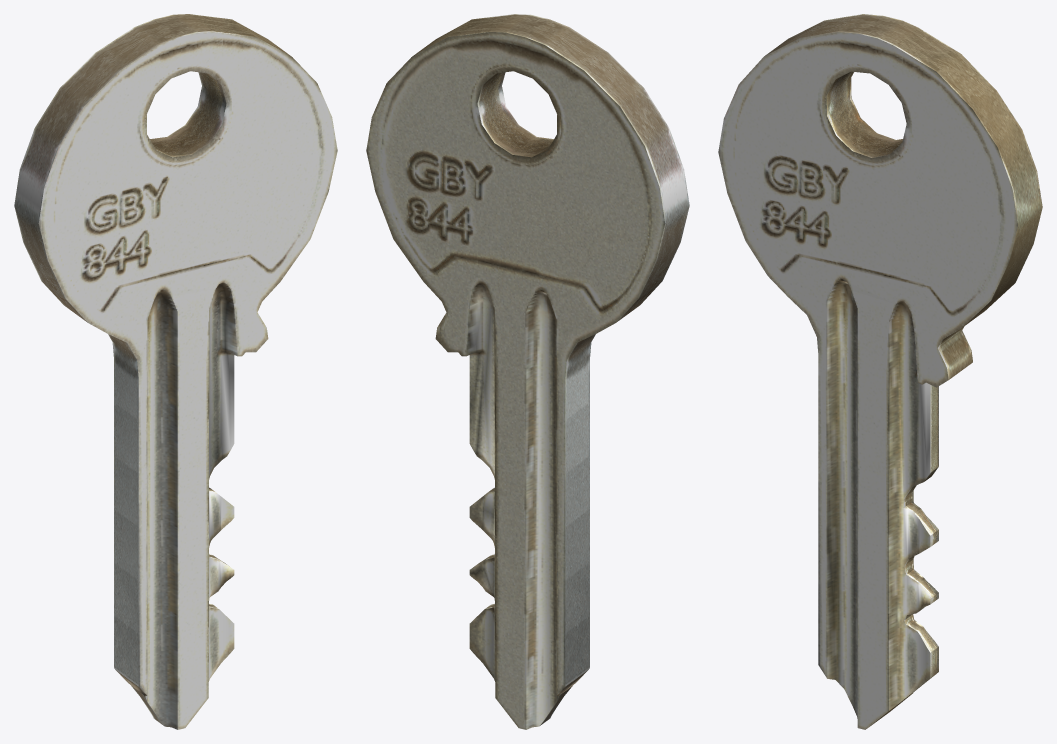
The model's file is key_01.glb.
3 views of the same model, side by side, from view 1: azimuth 30°, elevation 25°; view 2: azimuth 150°, elevation 25°; view 3: azimuth 330°, elevation 25° (orthographic).
Visible parts, largest first — view 1: Key; view 2: Key; view 3: Key.
Part boxes in pixels (<box>): Key: <box>14,14,337,729</box>; Key: <box>366,14,689,729</box>; Key: <box>718,14,1042,729</box>.
Size of the model in its own units: 0.0361 by 0.08 by 0.00512.
1 material, 1 textured.
